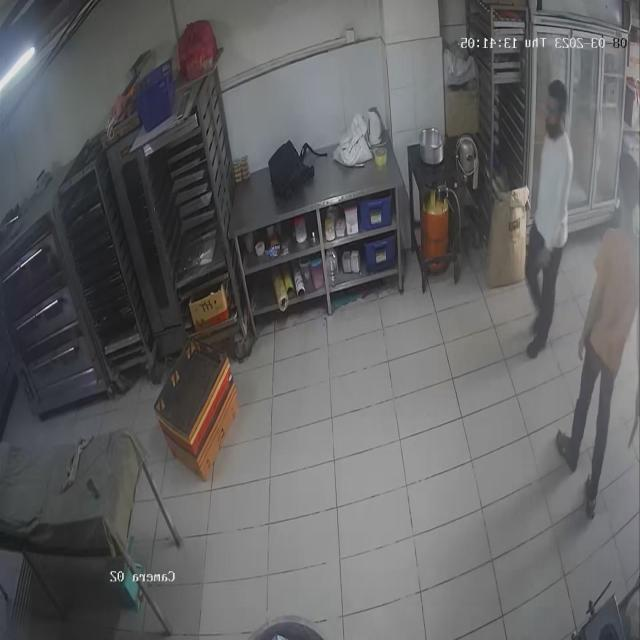Knife: (625, 408, 639, 454)
